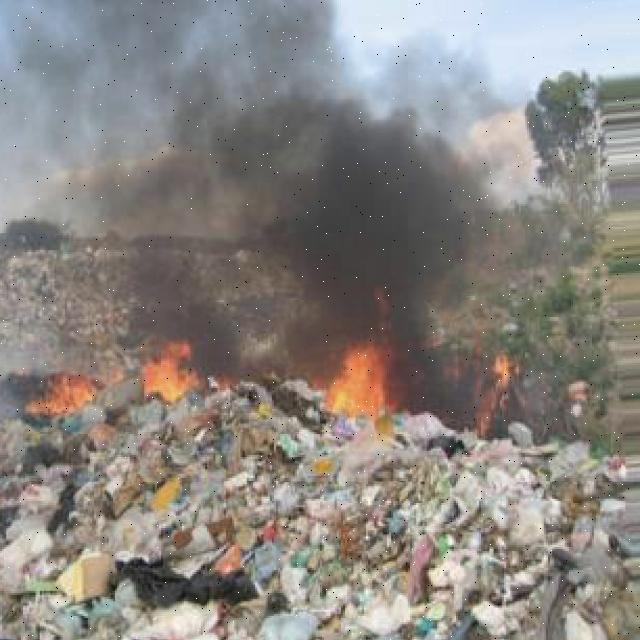fire: (324, 333, 395, 432), (18, 371, 106, 434), (140, 329, 201, 413), (481, 331, 523, 411)
smoke: (0, 10, 542, 328), (393, 329, 483, 428), (203, 330, 326, 394)
